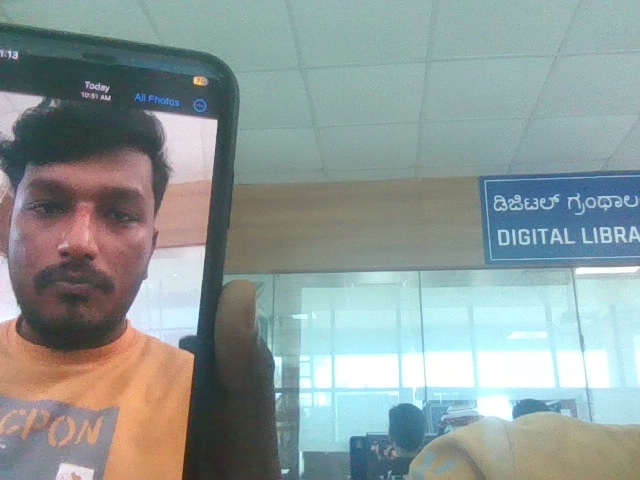fake: (0, 72, 198, 352)
